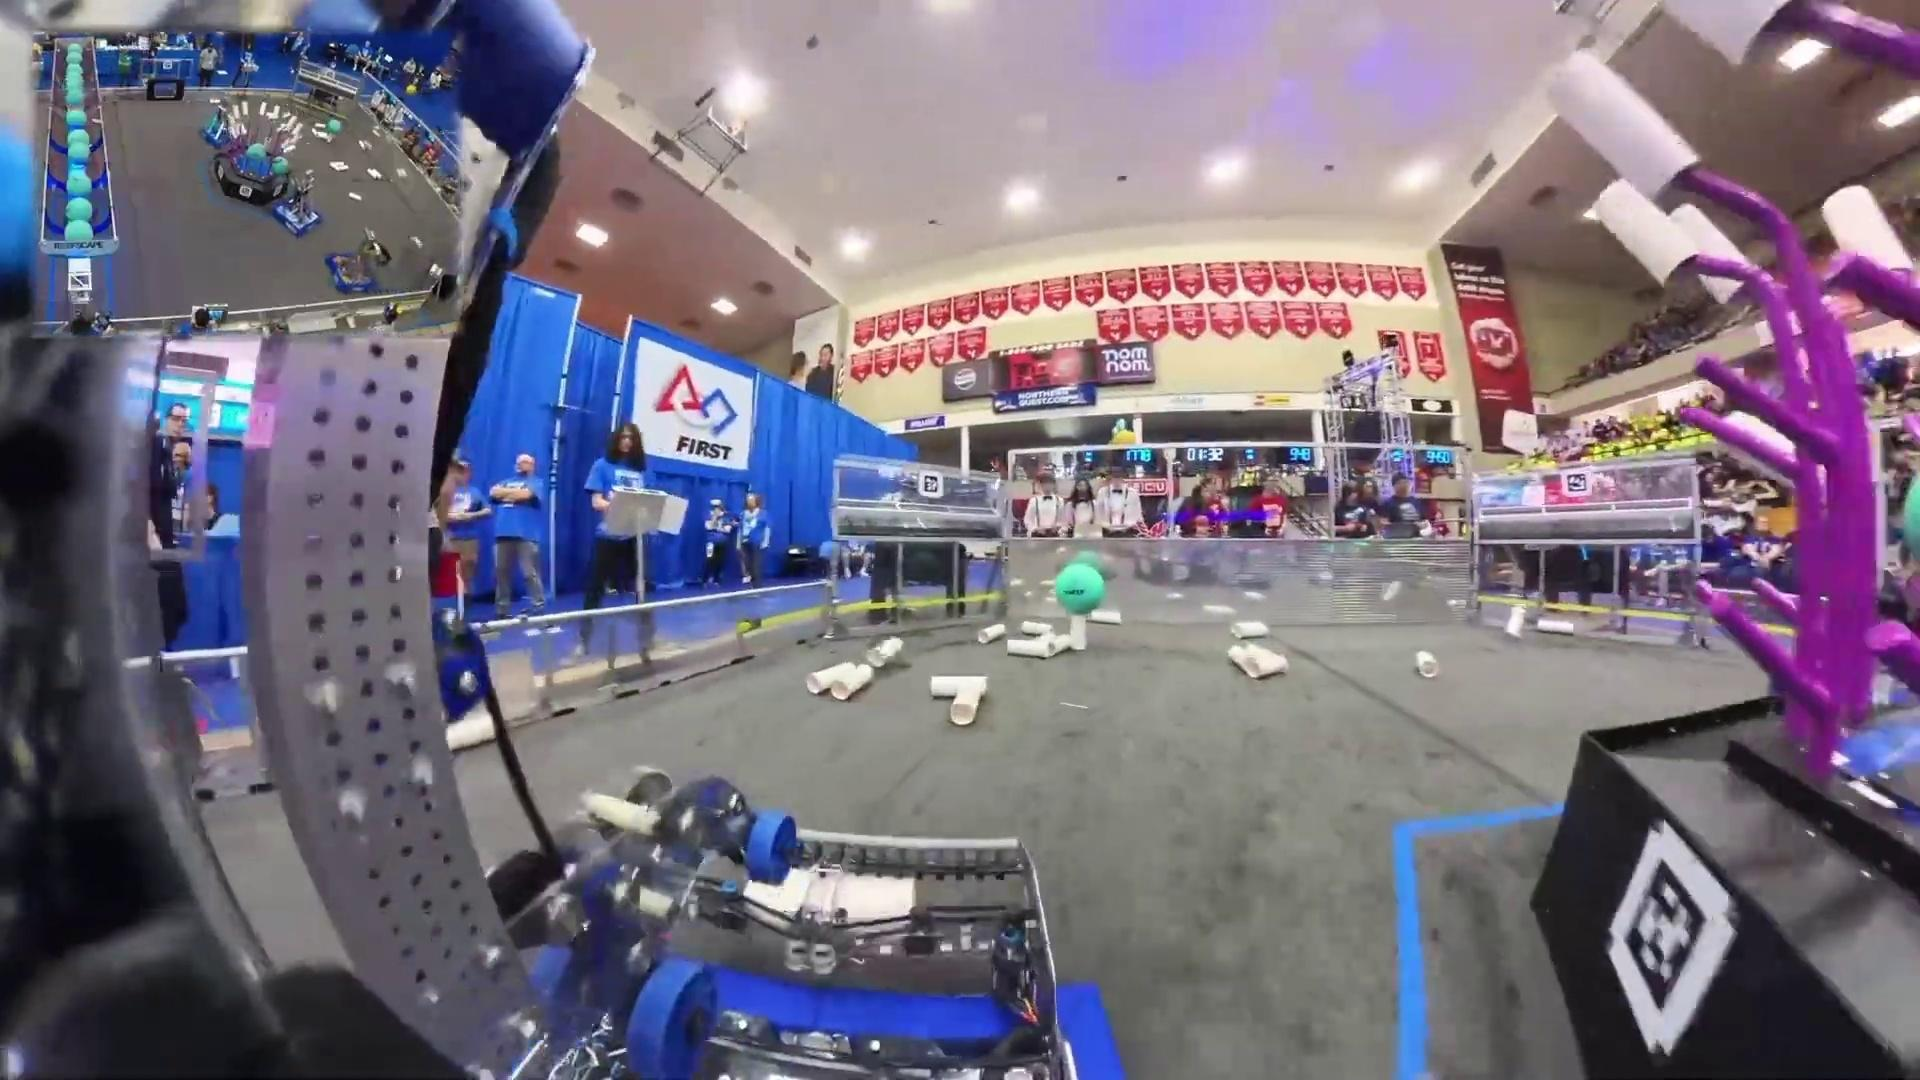robot: (207, 87, 421, 237), (202, 94, 252, 149)
